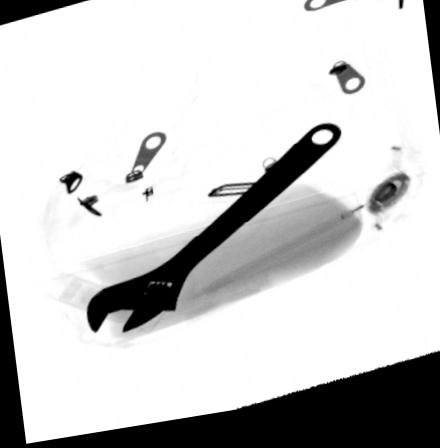Wrench: (84, 133, 343, 338)
